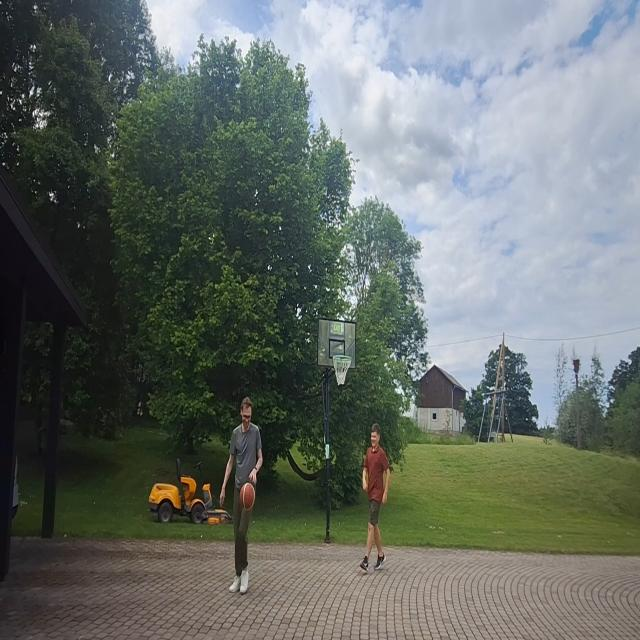ball: (238, 478, 256, 513)
basket: (332, 352, 352, 389)
player: (219, 395, 264, 597), (360, 422, 391, 575)
